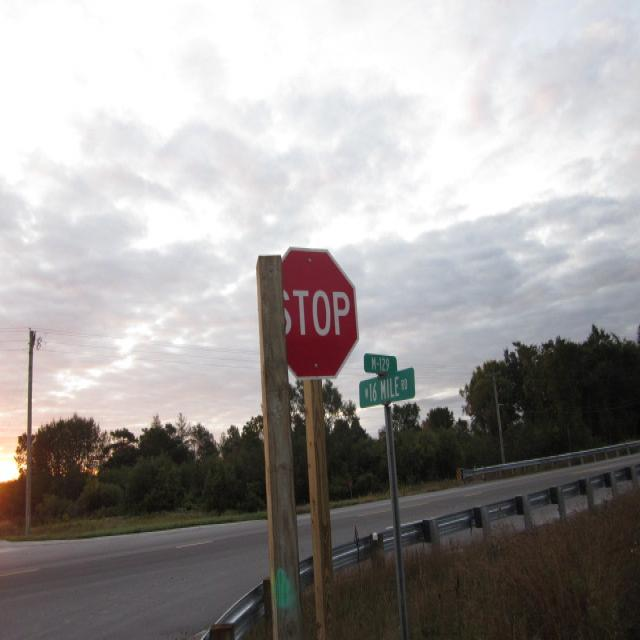stop: (270, 248, 359, 381)
